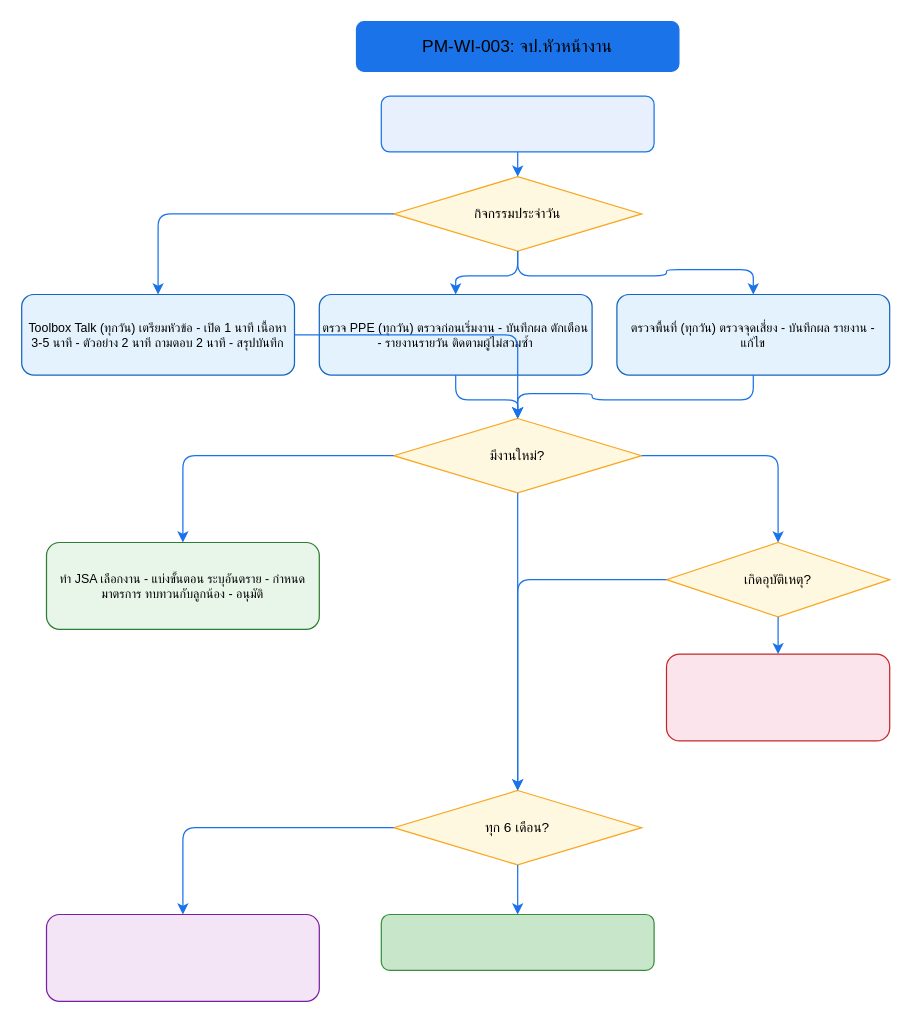
The diagram is 911 pixels wide and 1023 high, and some of its shapes have lost their labels. The shapes that lost their labels are listed below. From the top down, each one's centre as x and y in pixels, then its label:
(x=517, y=123): เริ่มวันทำงาน
(x=777, y=697): สอบสวน 5 Why รับแจ้ง - เก็บหลักฐาน สัมภาษณ์ - วิเคราะห์ เสนอแนะ - ติดตาม
(x=182, y=957): ทำ HIRARC ระบุอันตราย - ประเมิน S x L กำหนดระดับ - มาตรการ รายงาน จป.วิชาชีพ
(x=517, y=941): จบวัน
